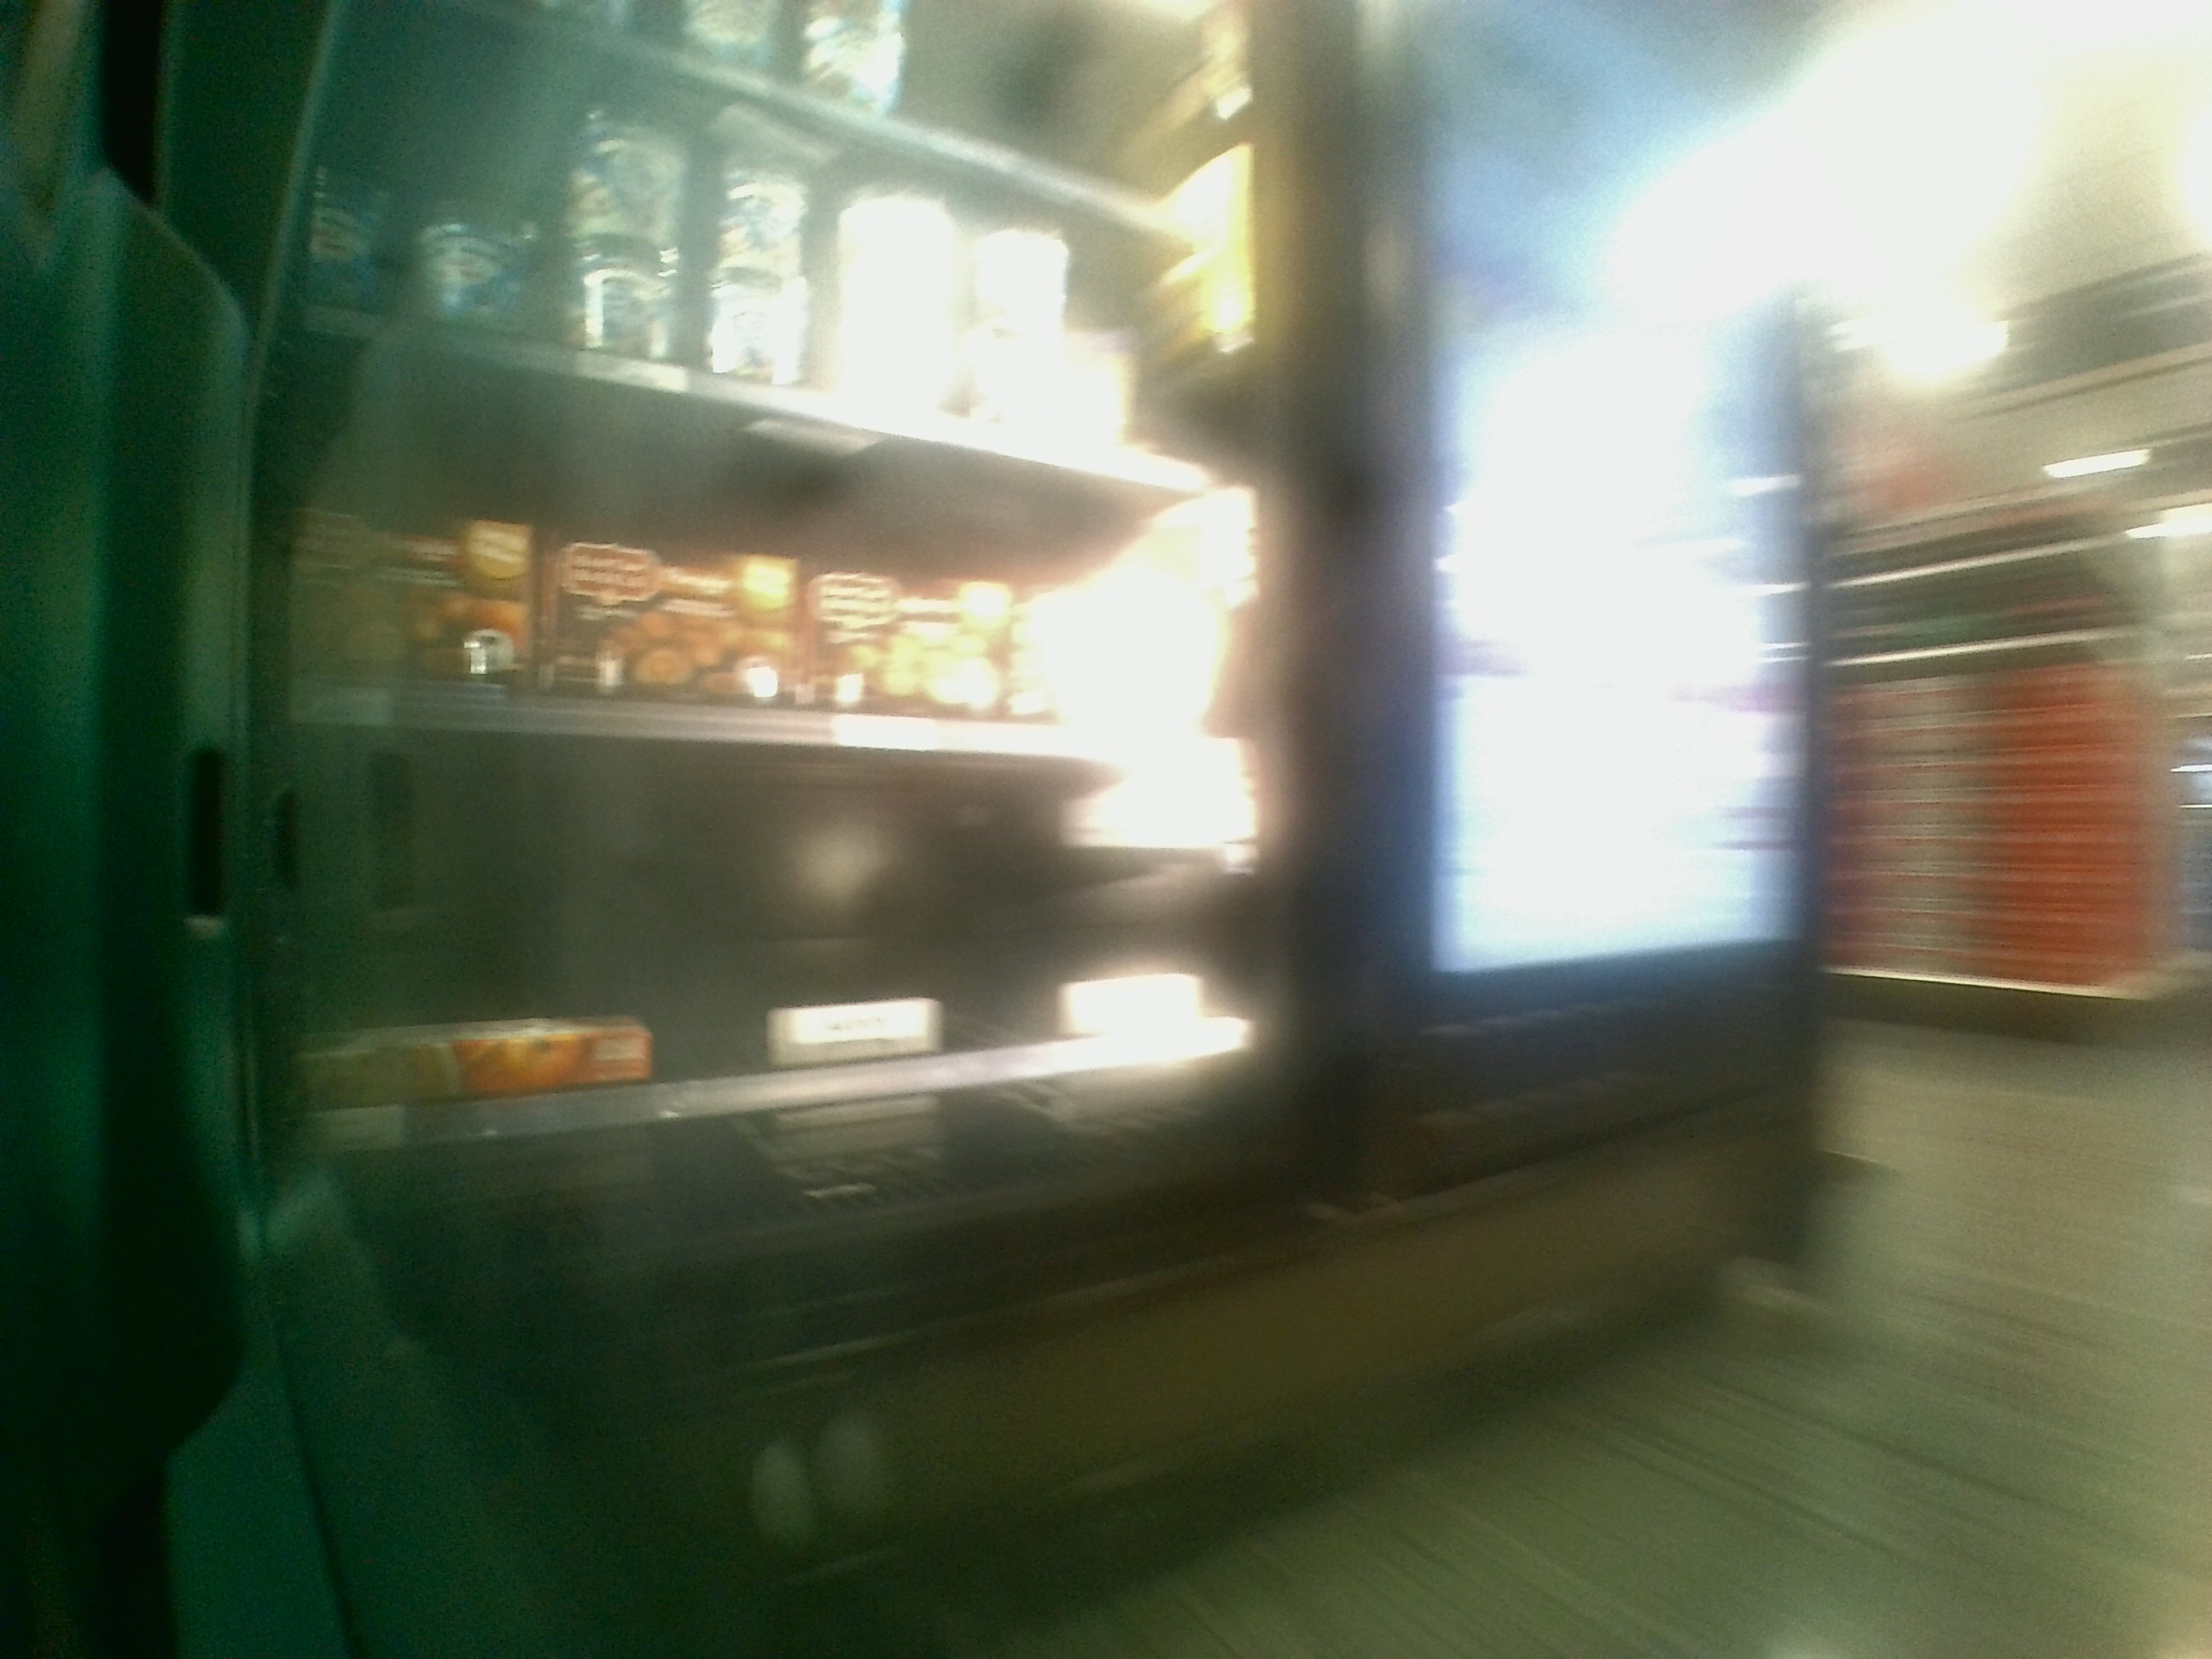shelf: (268, 701, 1273, 1053), (265, 404, 1263, 718)
